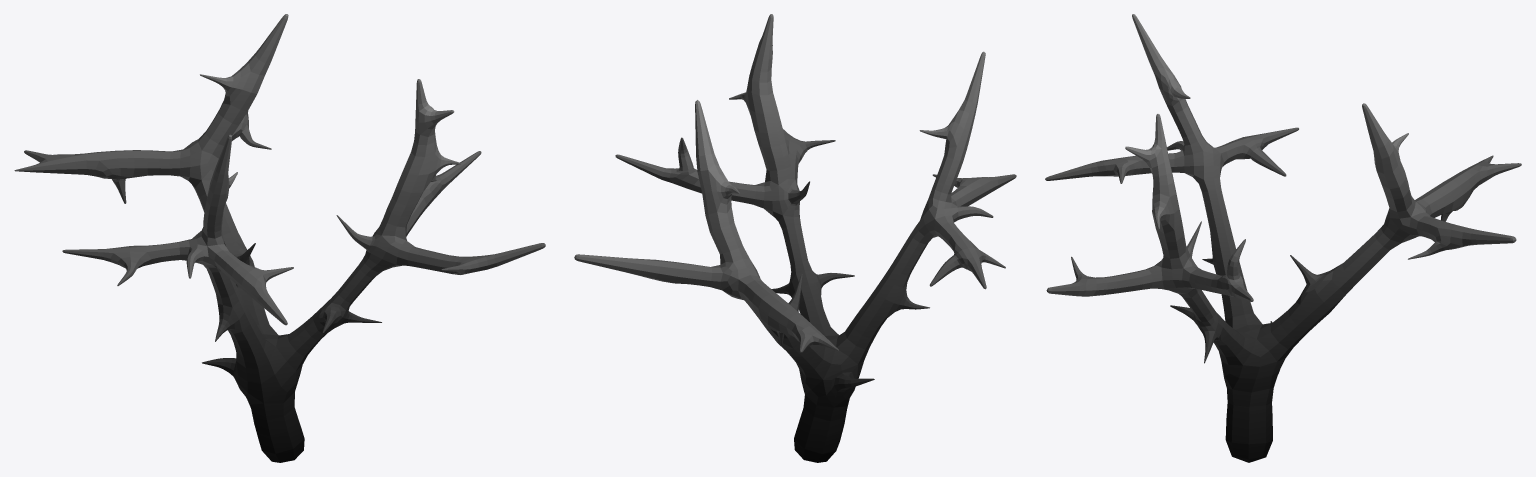
File: thorn_bush.fbx
The picture shows the model from 3 angles, left to right: view 1: azimuth 30°, elevation 25°; view 2: azimuth 150°, elevation 25°; view 3: azimuth 270°, elevation 25°; orthographic projection.
Parts seen in each view (by area): view 1: thorn_bush; view 2: thorn_bush; view 3: thorn_bush.
Boxes of the visible parts, left/top/right/bottom form: thorn_bush: left=14, top=14, right=545, bottom=462; thorn_bush: left=574, top=14, right=1016, bottom=462; thorn_bush: left=1045, top=14, right=1521, bottom=462.
Bounding box in the file's own units: 62.29 × 59.36 × 65.29.
